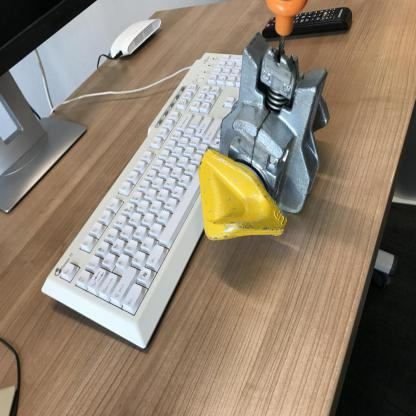Twistlock: (196, 0, 335, 247)
